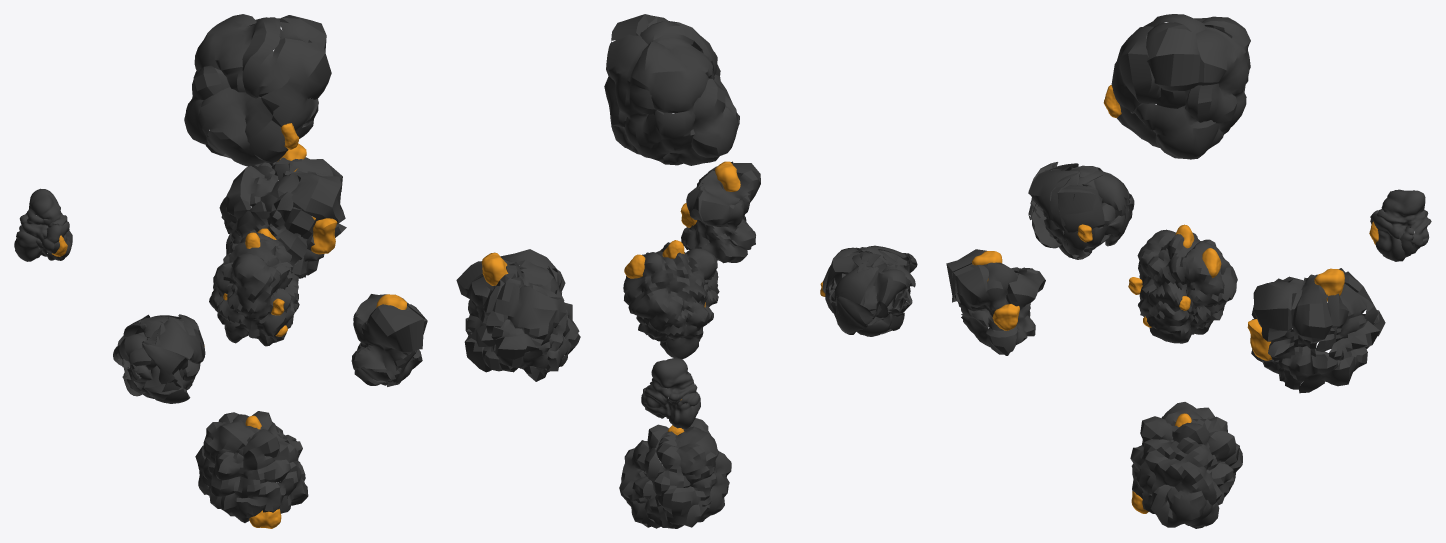
The model's file is Comet.glb.
3 renders of one model, left to right at view 1: azimuth 30°, elevation 25°; view 2: azimuth 150°, elevation 25°; view 3: azimuth 270°, elevation 25°, orthographic. The views are drawn at different scales.
Parts seen in each view (by area): view 1: rock.001, rock.002; view 2: rock.001, rock.002; view 3: rock.001, rock.002.
Part boxes in pixels (x1,y1,x2,y2): rock.001: [14, 14, 427, 522]; rock.002: [52, 123, 406, 528]; rock.001: [456, 14, 917, 528]; rock.002: [482, 161, 825, 435]; rock.001: [946, 14, 1431, 528]; rock.002: [972, 85, 1378, 513].
Size of the model in its own units: 3.71 by 5.32 by 4.57.
